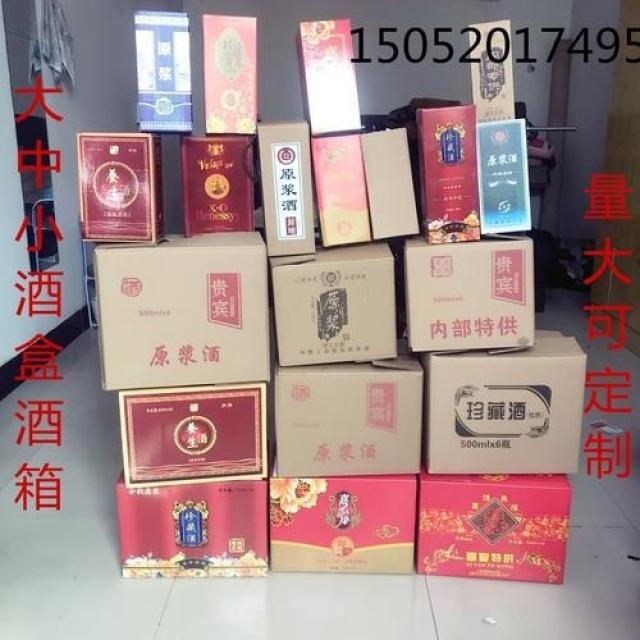box: (93, 232, 271, 392), (419, 330, 588, 474), (415, 457, 572, 585), (275, 355, 424, 476), (270, 239, 397, 367), (404, 232, 536, 353), (119, 383, 269, 489), (118, 472, 269, 577), (270, 475, 417, 575), (76, 133, 164, 241), (416, 106, 480, 246), (257, 120, 317, 257), (294, 18, 361, 136), (136, 10, 195, 134), (180, 137, 253, 236), (360, 127, 421, 241), (311, 134, 372, 248), (202, 15, 257, 136), (477, 118, 534, 233), (468, 19, 515, 123)
